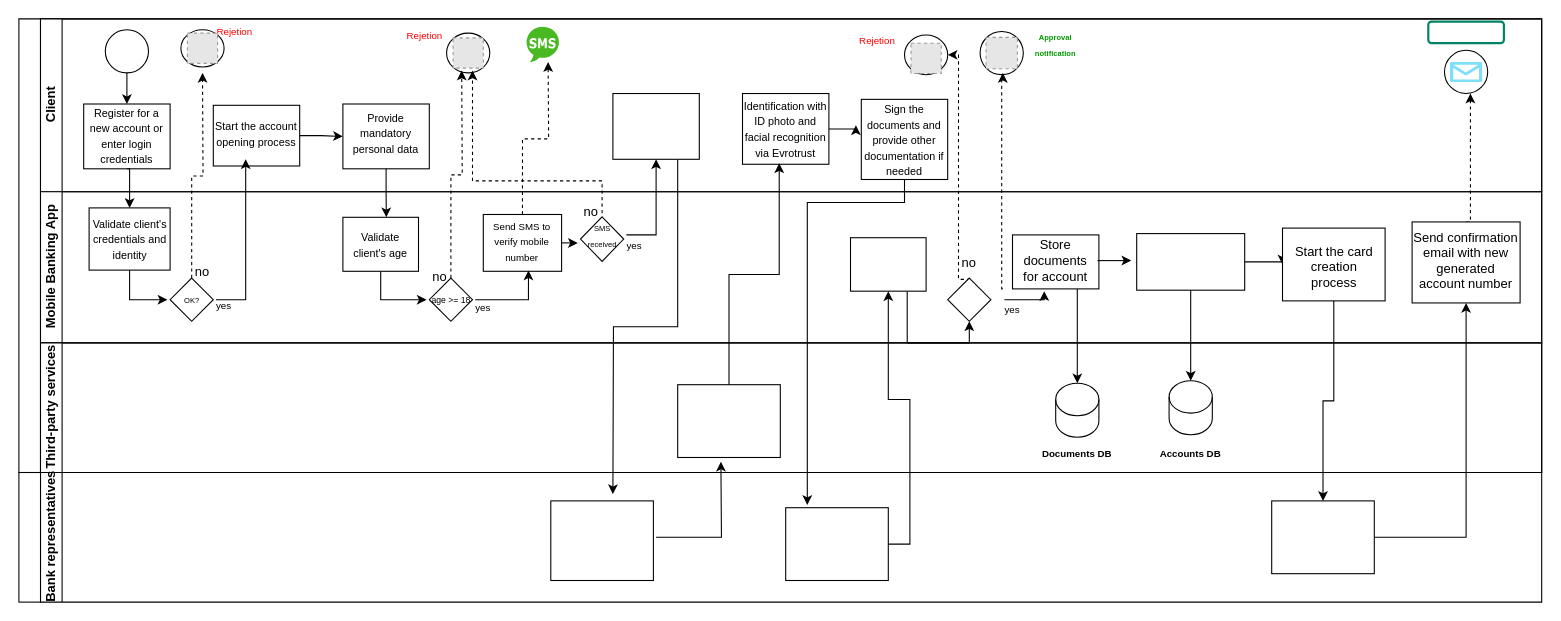
Some shapes in this 1561 by 621 pixel diagram are drawn without their labels. Grey dashed boxes stand in for pictures. The shapes that lost their labels are listed below. From the top down, each one's centre as x and y in pixels, then its label:
At point 1465,32: "SUCCESS".
At point 655,125: "Select Account Type".
At point 887,264: "Check backoffice feedback".
At point 1190,261: "Save new account into the bank DB".
At point 969,299: "Approved?".
At point 728,420: "Send documents for signing with Evrotrust".
At point 601,540: "Prepare documents with terms and conditions".
At point 836,543: "Review documents".
At point 1322,537: "Create a card for the new bank account".
